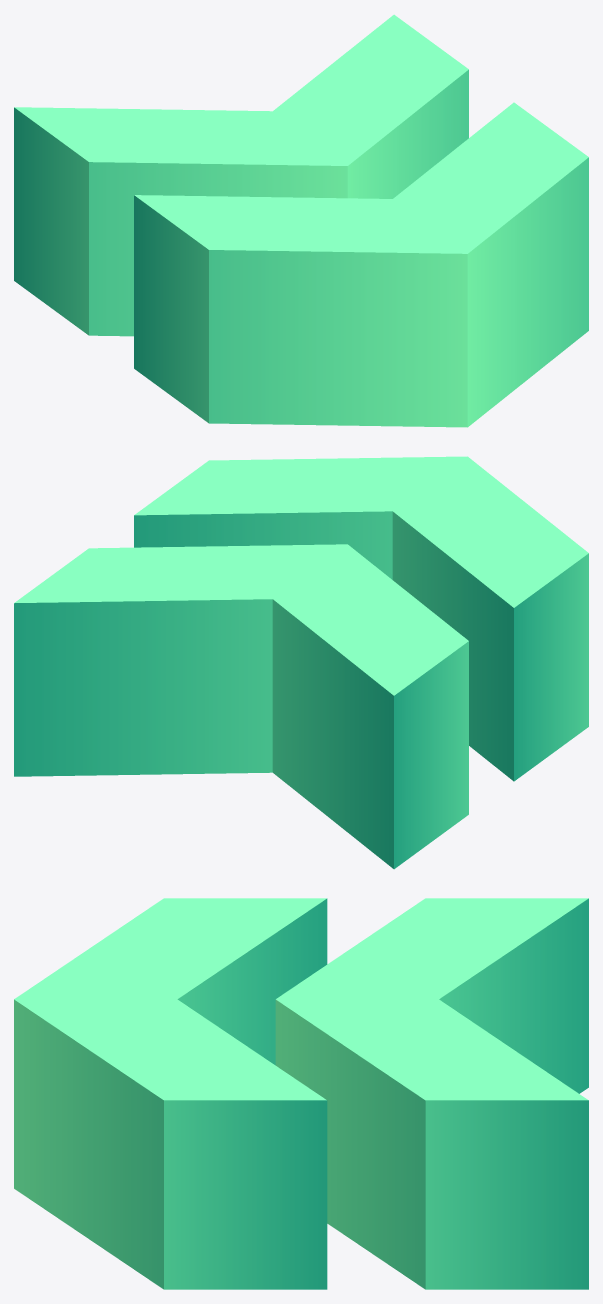
Rendered from PathArrow.glb.
3 renders of one model, top to bottom at view 1: azimuth 30°, elevation 25°; view 2: azimuth 150°, elevation 25°; view 3: azimuth 270°, elevation 25°, orthographic. The views are drawn at different scales.
Parts seen in each view (by area): view 1: PathArrow; view 2: PathArrow; view 3: PathArrow.
Part boxes in pixels (x1=…): PathArrow: x1=14, y1=14, x2=588, y2=427; PathArrow: x1=14, y1=456, x2=588, y2=869; PathArrow: x1=14, y1=898, x2=588, y2=1289.
Bounding box in the file's own units: 0.7927 × 0.346 × 0.9528.
1 material, 1 textured.
